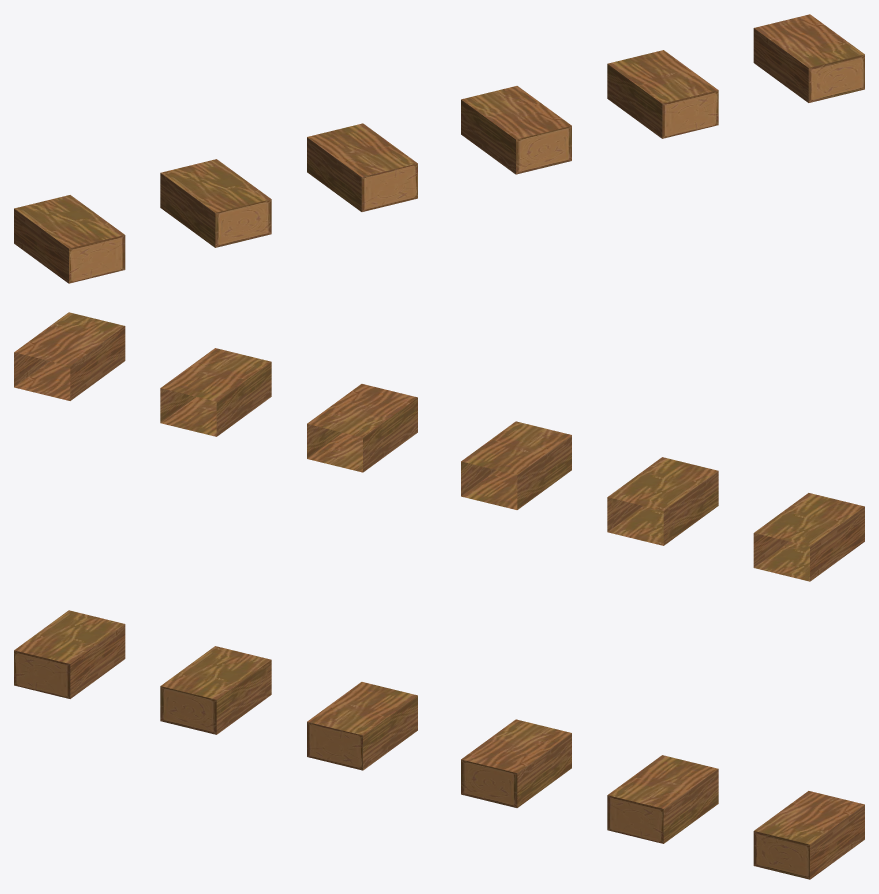
File: roof_frontsupports.glb
The picture shows the model from 3 angles, top to bottom: view 1: azimuth 30°, elevation 25°; view 2: azimuth 150°, elevation 25°; view 3: azimuth 330°, elevation 25°; orthographic projection.
Bounding box in the file's own units: 5.49 × 0.2311 × 0.6547.
Materials: 1 (1 with a texture image).
